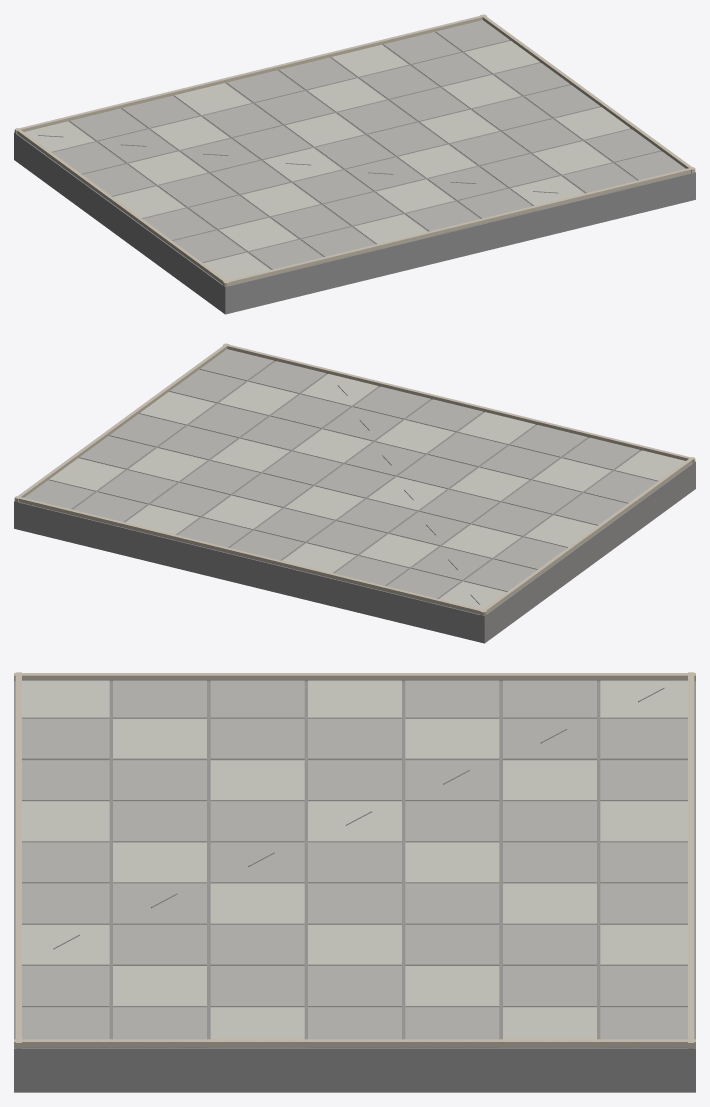
Rendered from suelo_losas.glb.
3 renders of one model, top to bottom at view 1: azimuth 30°, elevation 25°; view 2: azimuth 150°, elevation 25°; view 3: azimuth 270°, elevation 25°, orthographic. The views are drawn at different scales.
Parts seen in each view (by area): view 1: suelo_losas; view 2: suelo_losas; view 3: suelo_losas.
Boxes of the visible parts, x1,y1,x2,y2 form: suelo_losas: (14, 14, 695, 314); suelo_losas: (14, 343, 695, 643); suelo_losas: (14, 672, 695, 1092).
Bounding box in the file's own units: 18 × 1.13 × 14.
